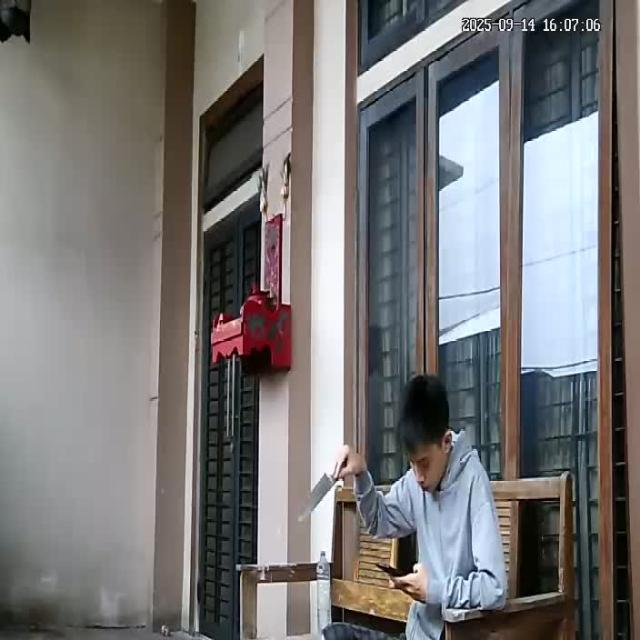senjata_tajam: (296, 474, 334, 524)
